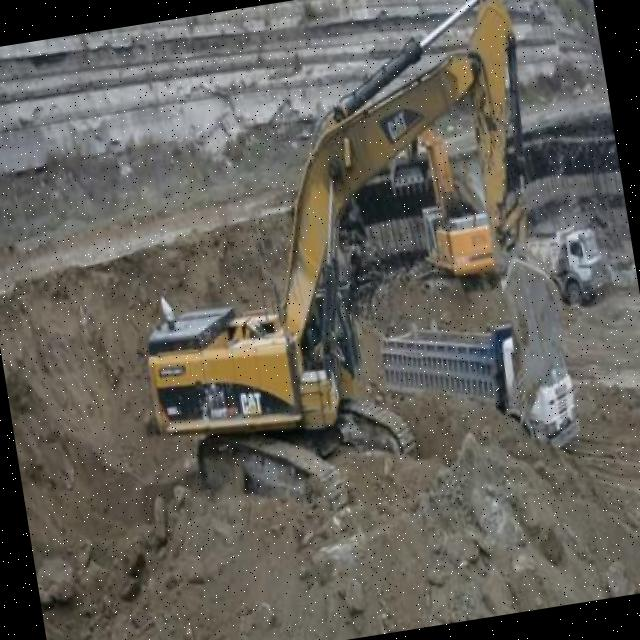Dump Truck: (374, 294, 586, 475), (506, 212, 608, 310)
Excavator: (90, 0, 612, 536), (406, 117, 504, 310)
